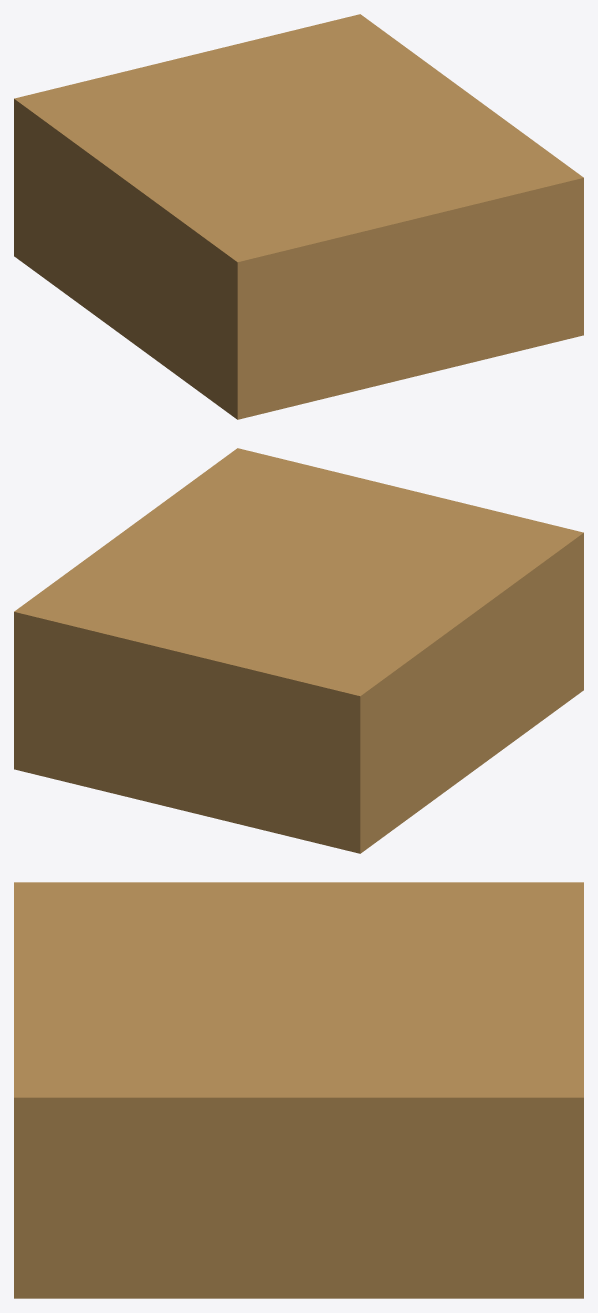
The picture shows the model from 3 angles, top to bottom: view 1: azimuth 30°, elevation 25°; view 2: azimuth 150°, elevation 25°; view 3: azimuth 270°, elevation 25°; orthographic projection. The views are drawn at different scales.
Visible parts, largest first — view 1: RUN-083-S00-ribbon; view 2: RUN-083-S00-ribbon; view 3: RUN-083-S00-ribbon.
Part boxes in pixels (left/top/right/bottom): RUN-083-S00-ribbon: left=14, top=14, right=583, bottom=419; RUN-083-S00-ribbon: left=14, top=448, right=583, bottom=853; RUN-083-S00-ribbon: left=14, top=882, right=583, bottom=1298.
Bounding box in the file's own units: 0.0805 × 0.035 × 0.09.
